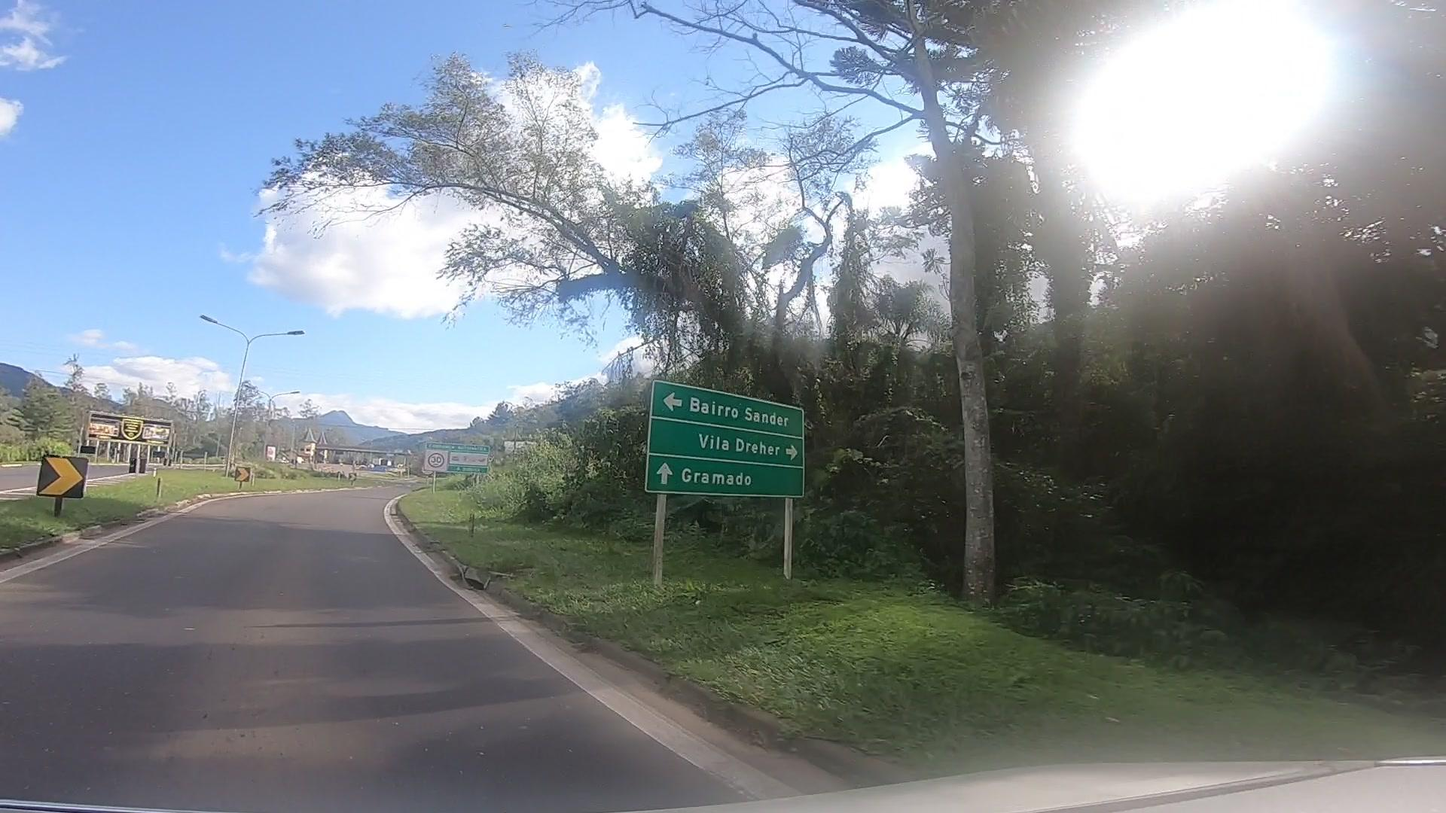R-19: (426, 451, 446, 470)
